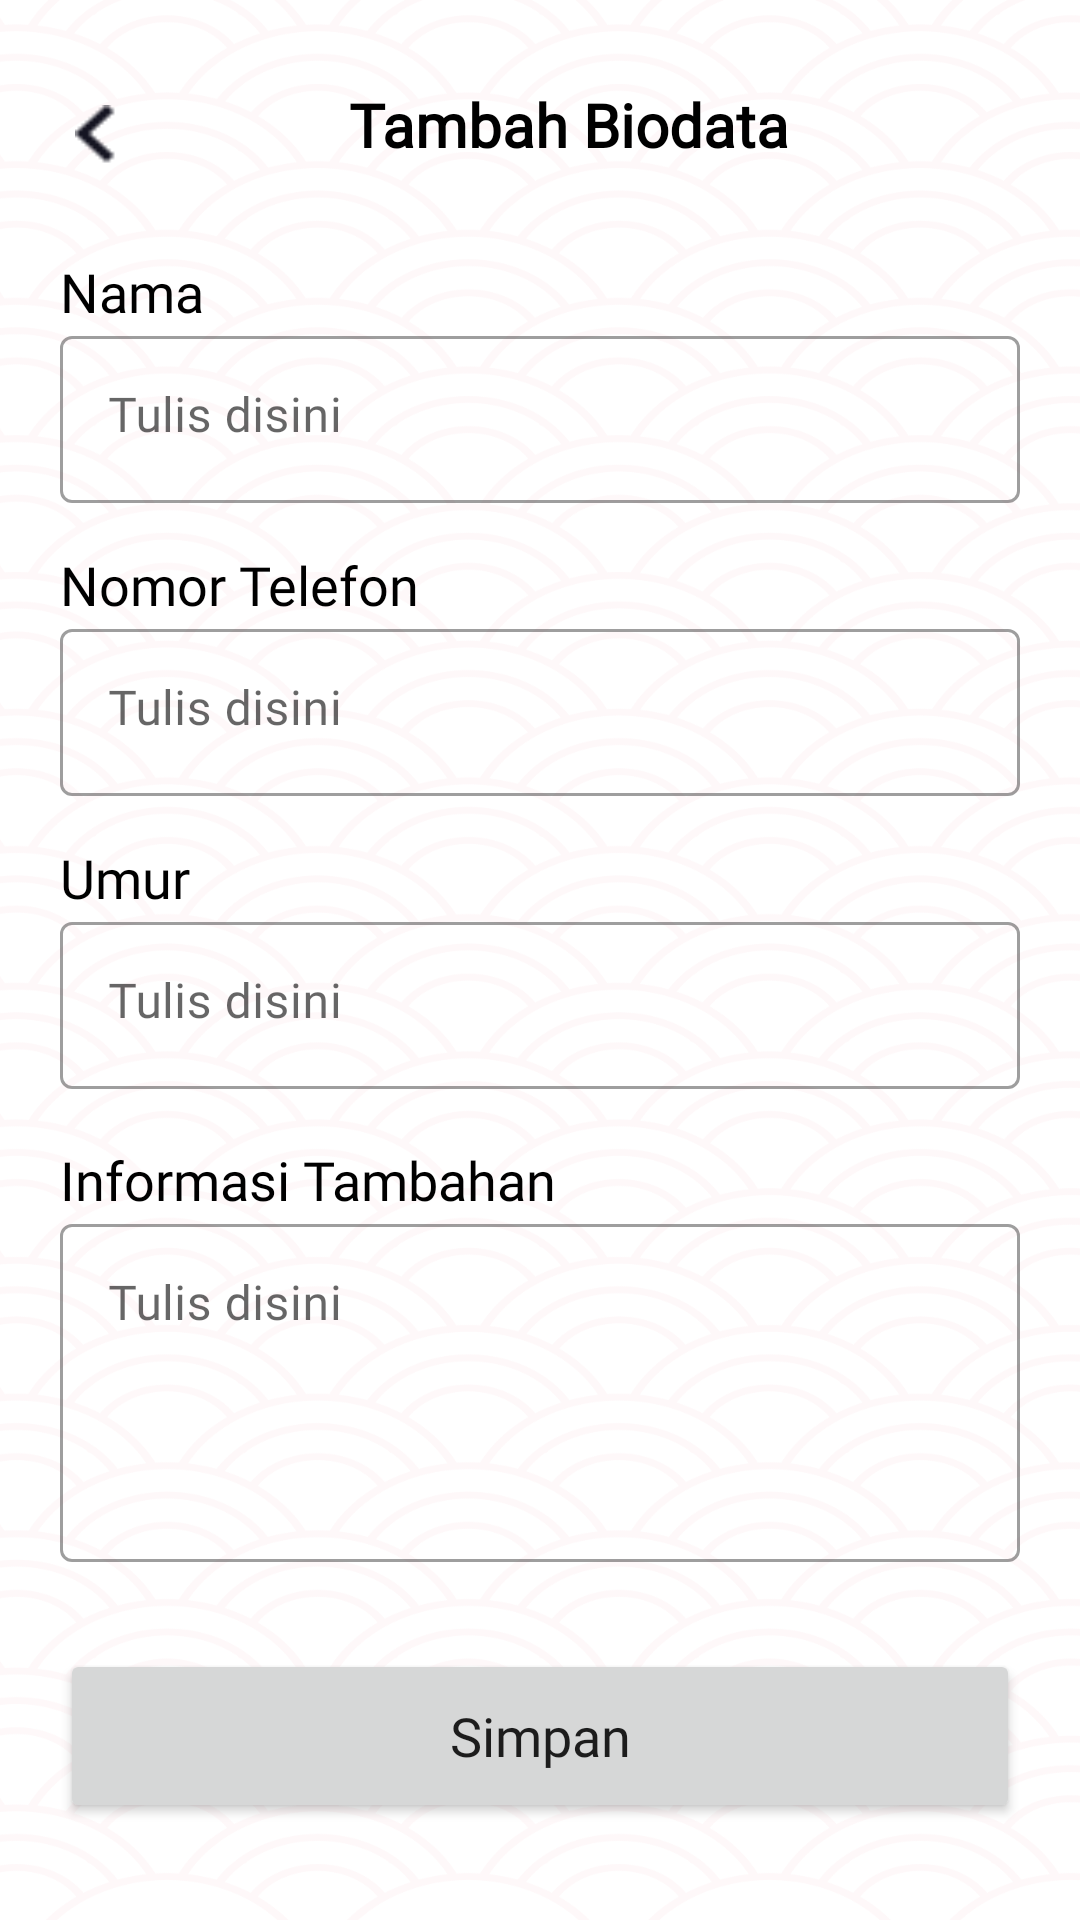

Named icons in this screenshot (1080*1920) and their centers, point (x, y):
back: point (95, 134)
